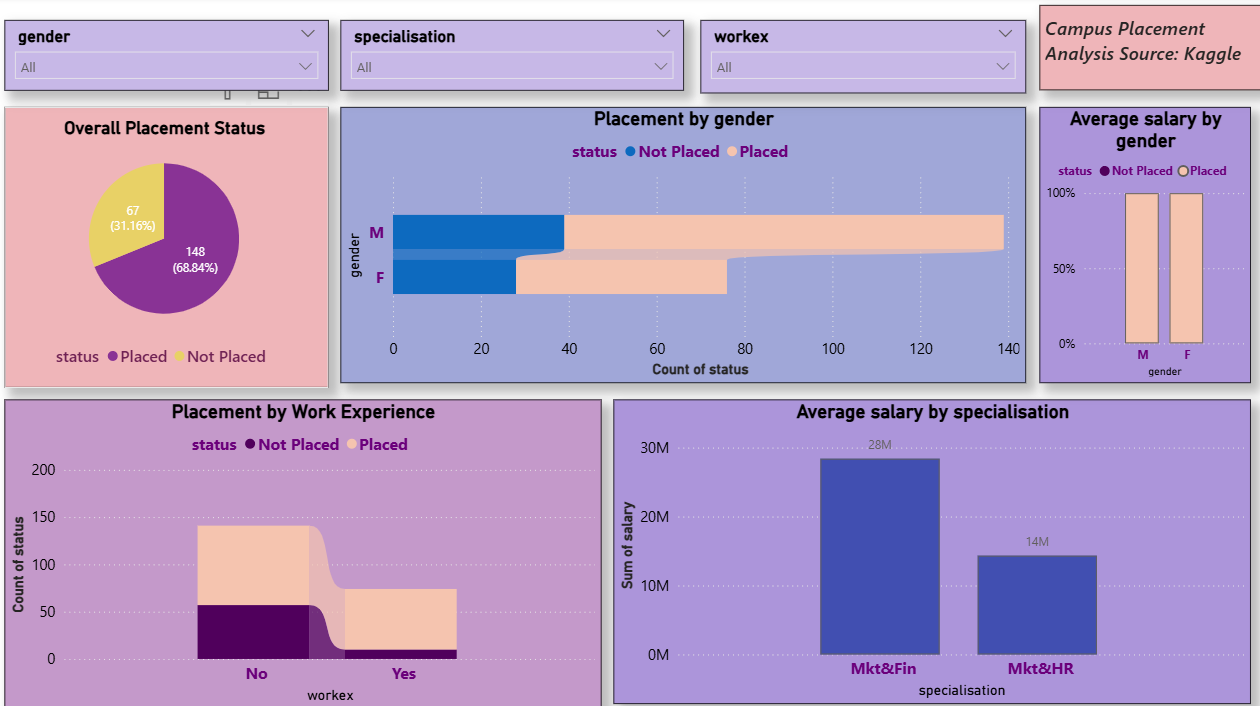

The dashboard page shown, as its layout file describes it:
{"tool":"powerbi","page":{"name":"Page 1","canvas":[1280,720],"ordinal":0},"visuals":[{"type":"pieChart","title":"Overall Placement Status","fields":{"Category":["Placement_Data_Full_Class.status"],"Y":["CountNonNull(Placement_Data_Full_Class.status)"]},"box":[10.6,112.1,327.1,283.2],"z":0},{"type":"barChart","title":"Placement by gender ","fields":{"Series":["Placement_Data_Full_Class.status"],"Category":["Placement_Data_Full_Class.gender"],"Y":["CountNonNull(Placement_Data_Full_Class.status)"]},"box":[349.8,112.1,692,278.6],"z":1000},{"type":"columnChart","title":"Placement by Work Experience","fields":{"Category":["Placement_Data_Full_Class.workex"],"Y":["CountNonNull(Placement_Data_Full_Class.status)"],"Series":["Placement_Data_Full_Class.status"]},"box":[10.6,407.3,602.7,311.9],"z":2000},{"type":"clusteredColumnChart","title":"Average salary by specialisation","fields":{"Category":["Placement_Data_Full_Class.specialisation"],"Y":["Sum(Placement_Data_Full_Class.salary)"]},"box":[625.4,407.3,643.5,307.4],"z":3000},{"type":"slicer","fields":{"Values":["Placement_Data_Full_Class.gender"]},"box":[10.6,24.2,327.1,71.2],"z":4000},{"type":"slicer","fields":{"Values":["Placement_Data_Full_Class.specialisation"]},"box":[349.8,24.2,346.8,71.2],"z":5000},{"type":"slicer","fields":{"Values":["Placement_Data_Full_Class.workex"]},"box":[713.2,24.2,328.6,74.2],"z":6000},{"type":"hundredPercentStackedColumnChart","title":"Average salary by gender ","fields":{"Category":["Placement_Data_Full_Class.gender"],"Y":["Sum(Placement_Data_Full_Class.salary)"],"Series":["Placement_Data_Full_Class.status"]},"box":[1055.4,112.1,213.5,278.6],"z":6001},{"type":"textbox","box":[1055.4,9.1,224.1,86.3],"z":6002}]}

Visuals, with their boxes in screenshot pixels (x1, y1, x2, y2), scaled from the page's 1280x720 canvas onto the 1260x706 screenshot:
"Overall Placement Status" pieChart: box(10, 110, 332, 388)
"Placement by gender " barChart: box(344, 110, 1026, 383)
"Placement by Work Experience" columnChart: box(10, 399, 604, 705)
"Average salary by specialisation" clusteredColumnChart: box(616, 399, 1249, 701)
slicer - Placement_Data_Full_Class.gender: box(10, 24, 332, 94)
slicer - Placement_Data_Full_Class.specialisation: box(344, 24, 686, 94)
slicer - Placement_Data_Full_Class.workex: box(702, 24, 1026, 96)
"Average salary by gender " hundredPercentStackedColumnChart: box(1039, 110, 1249, 383)
textbox: box(1039, 9, 1259, 94)
